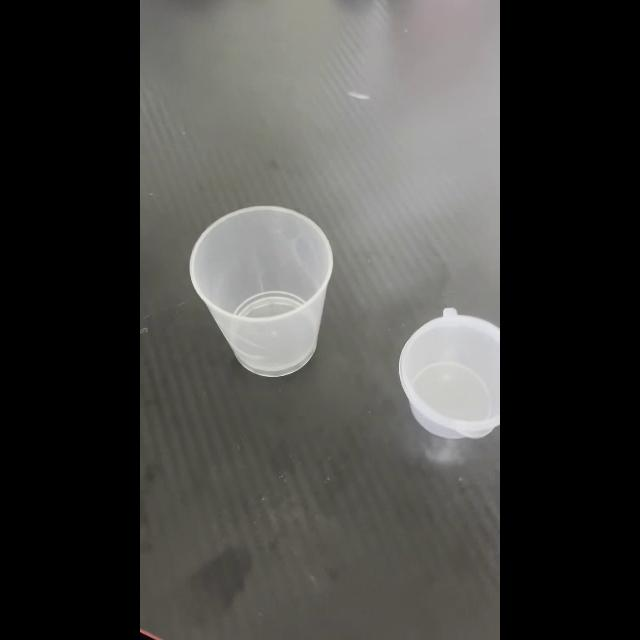clean: (190, 206, 332, 374), (398, 310, 500, 438)
